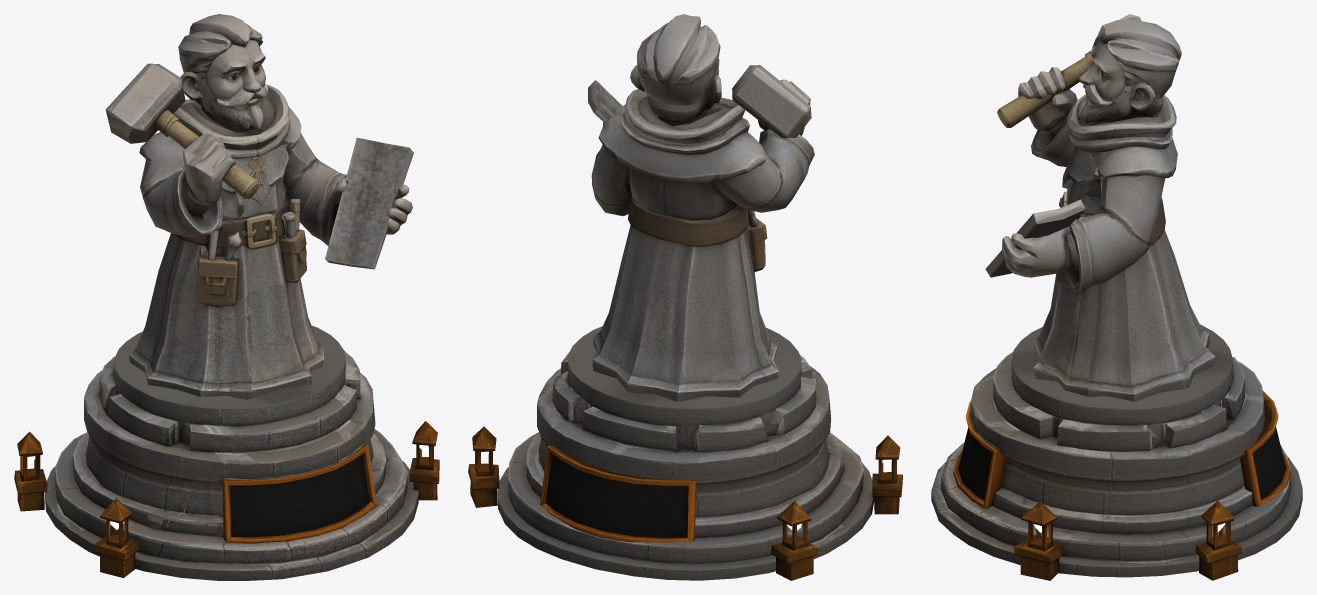
Rendered from eastbrook_realm_builder_monument.glb.
3 renders of one model, left to right at view 1: azimuth 30°, elevation 25°; view 2: azimuth 150°, elevation 25°; view 3: azimuth 270°, elevation 25°, orthographic.
Visible parts, largest first — view 1: RealmBuilderMonument_Surface, RealmBuilderMonument_Tools; view 2: RealmBuilderMonument_Surface, RealmBuilderMonument_Tools; view 3: RealmBuilderMonument_Surface, RealmBuilderMonument_Tools.
Boxes of the visible parts, left/top/right/bottom form: RealmBuilderMonument_Surface: left=14, top=14, right=439, bottom=580; RealmBuilderMonument_Tools: left=105, top=63, right=413, bottom=269; RealmBuilderMonument_Surface: left=468, top=14, right=902, bottom=580; RealmBuilderMonument_Tools: left=588, top=65, right=811, bottom=138; RealmBuilderMonument_Surface: left=931, top=20, right=1302, bottom=580; RealmBuilderMonument_Tools: left=985, top=14, right=1141, bottom=277.
Bounding box in the file's own units: 0.7552 × 0.992 × 0.7026.
2 materials, 1 textured.
